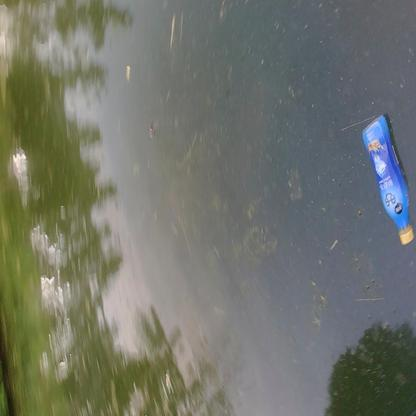plastic bottle: (360, 114, 414, 247)
